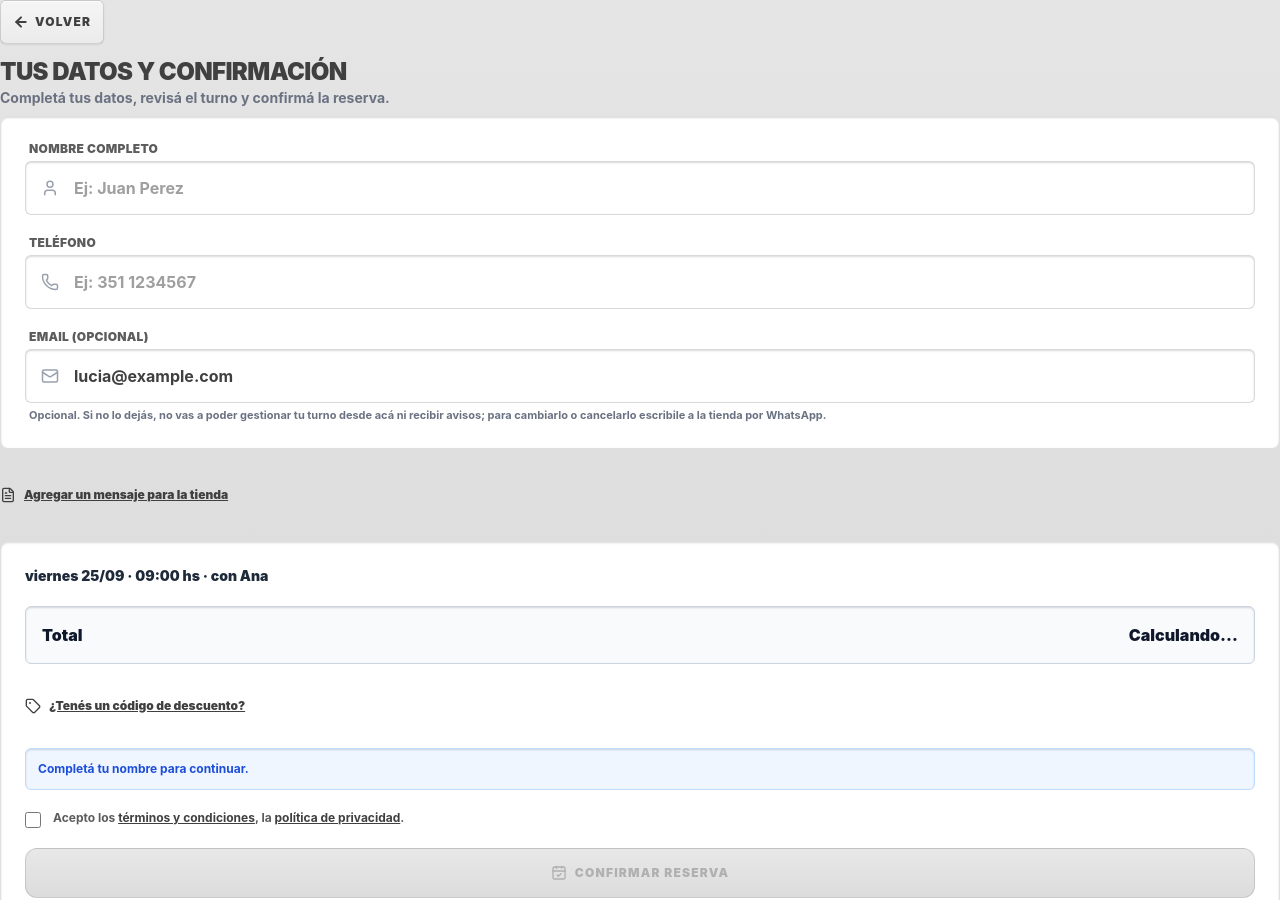
Test: BookingStepConfirmation › formulario › explica junto al resumen el primer paso pendiente antes de reservar
The width and height of the screenshot is (1280, 900).
Check: the message with test id "booking-submit-guidance" reads "Completá tu nombre para continuar.", box [38,760,249,776]
Type "Lucia" into the field labelled "Nombre Completo" at (640, 188), box [25,161,1255,215]
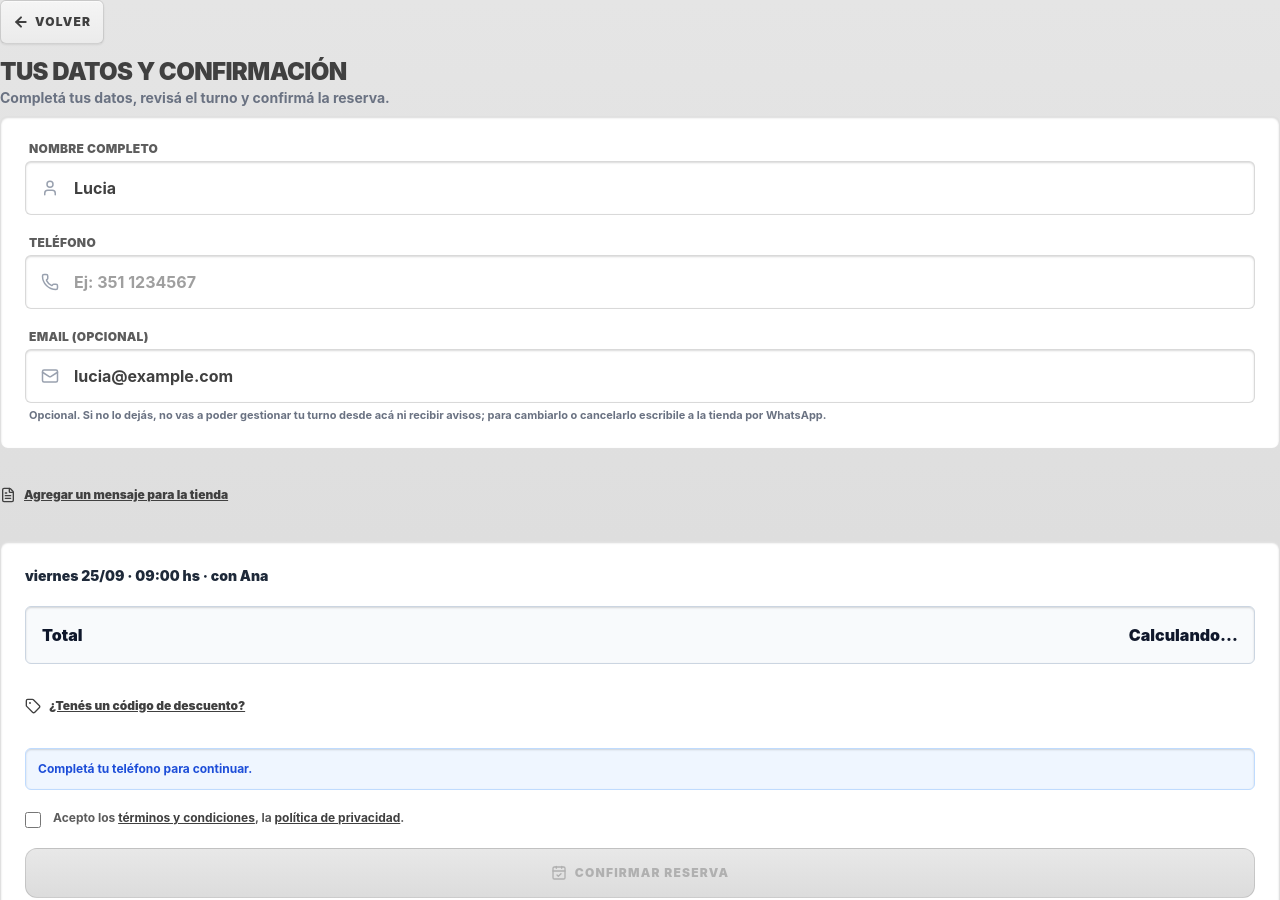
Check: the message with test id "booking-submit-guidance" reads "Completá tu teléfono para continuar.", box [38,760,252,776]
Type "1155550101" into the field labelled "Teléfono" at (640, 282), box [25,255,1255,309]
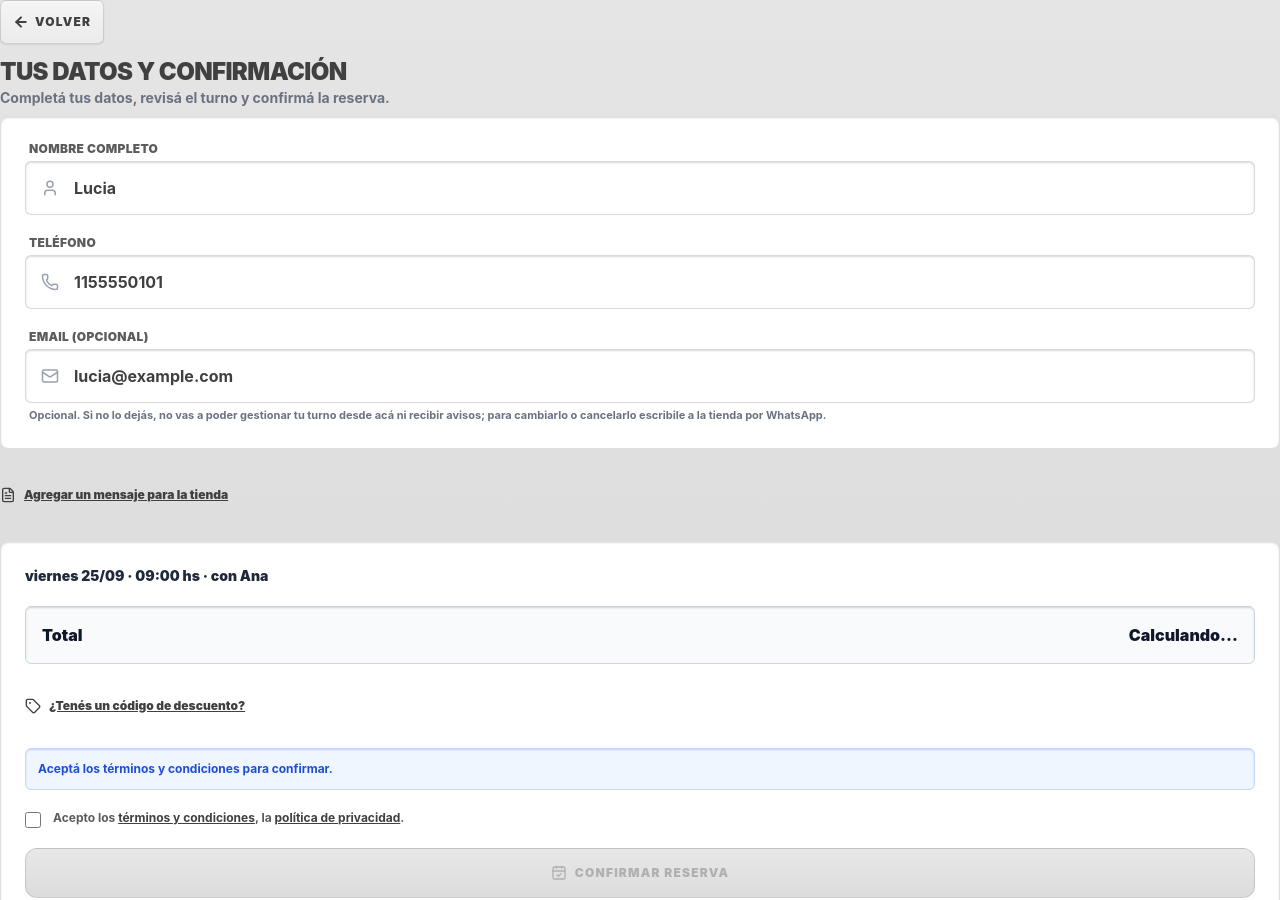
Check: the message with test id "booking-submit-guidance" reads "Aceptá los términos y condiciones para confirmar.", box [38,760,333,776]
Click the checkbox at (33, 820), box [25,812,41,828]
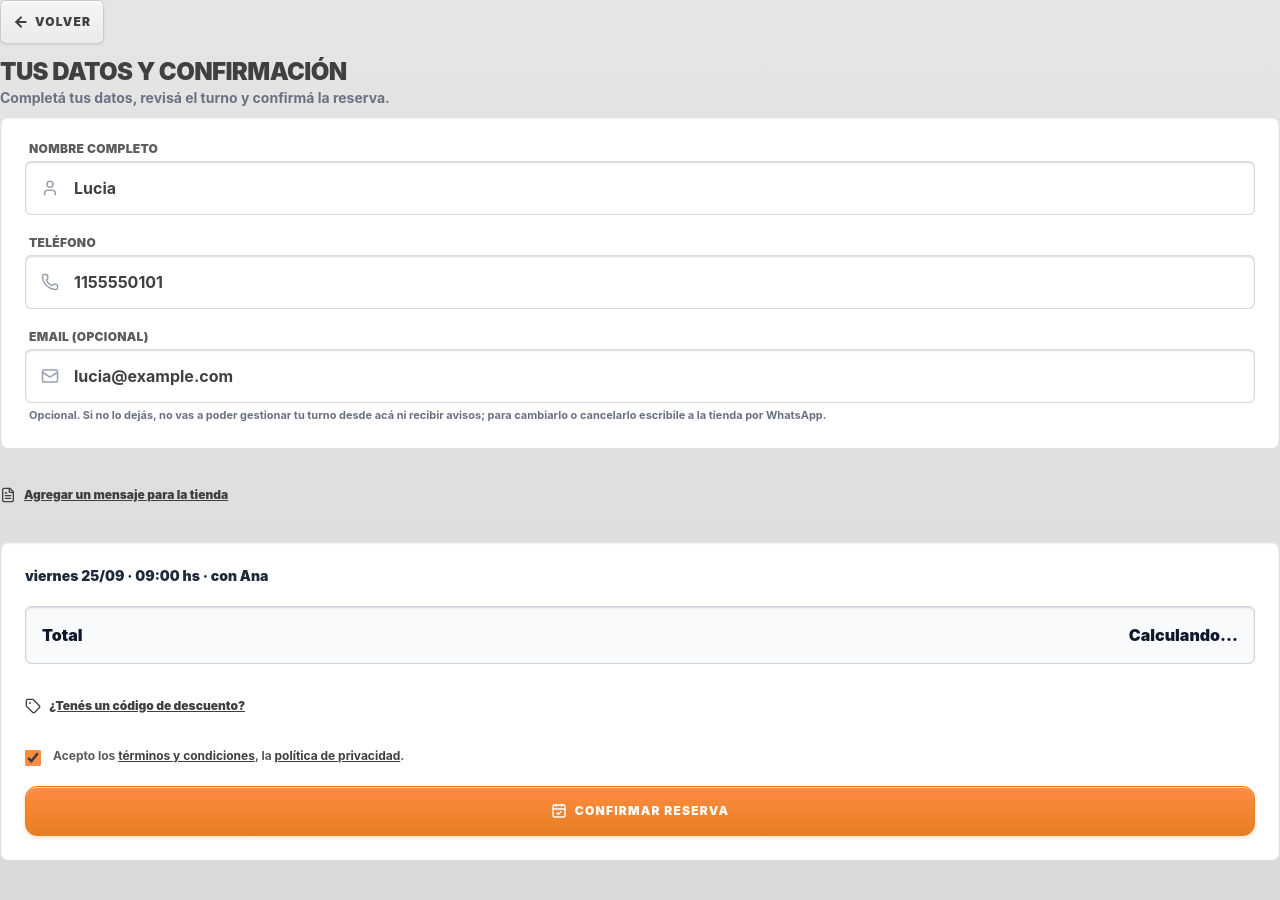
Check: the message with test id "booking-submit-guidance" is gone
Check: the button "Confirmar reserva" is enabled, box [25,786,1255,836]
